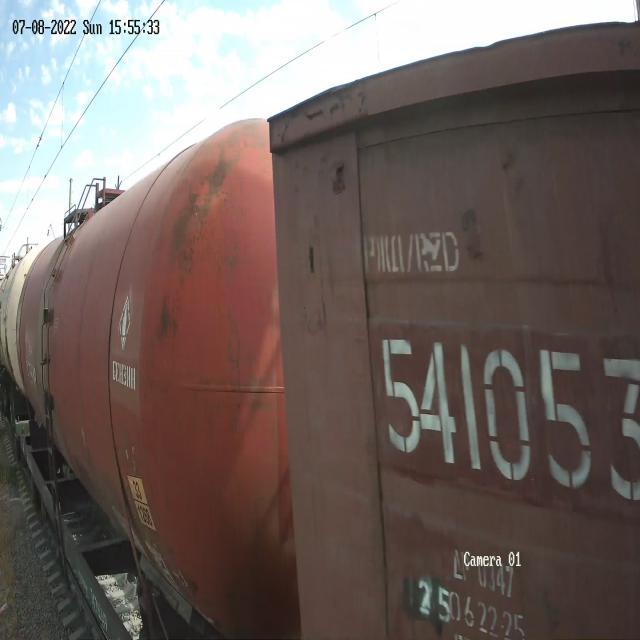gondola: (260, 12, 640, 640)
tank: (14, 102, 290, 640)
